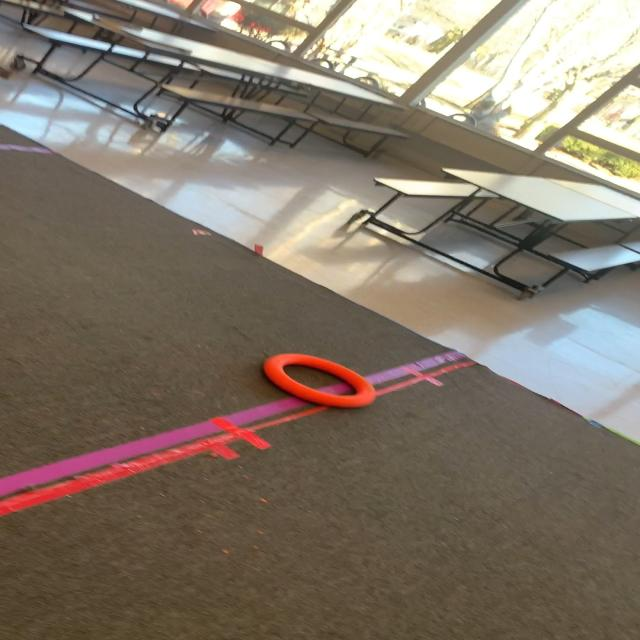notes: (260, 350, 384, 409)
